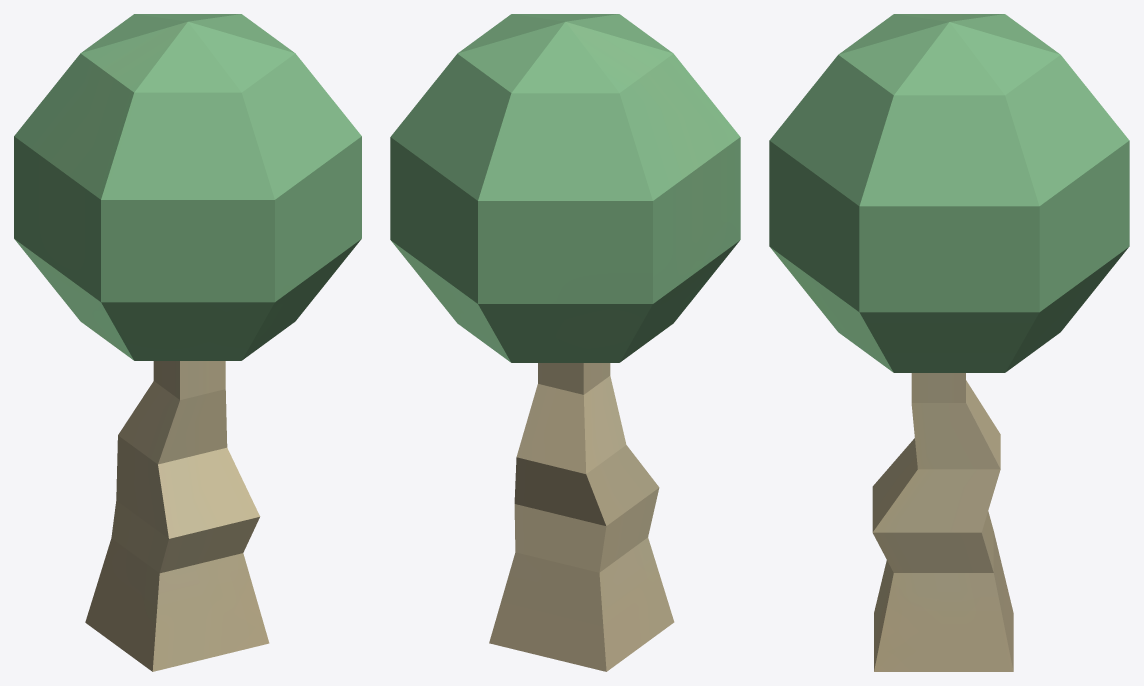
File: LowAgac.fbx
The picture shows the model from 3 angles, left to right: view 1: azimuth 30°, elevation 25°; view 2: azimuth 150°, elevation 25°; view 3: azimuth 270°, elevation 25°; orthographic projection. The views are drawn at different scales.
Visible parts, largest first — view 1: Cube; view 2: Cube; view 3: Cube.
Part boxes in pixels (x1,y1,x2,y2): Cube: (14, 14, 361, 671); Cube: (390, 14, 740, 671); Cube: (769, 14, 1129, 671).
Size of the model in its own units: 165 by 366 by 190.
